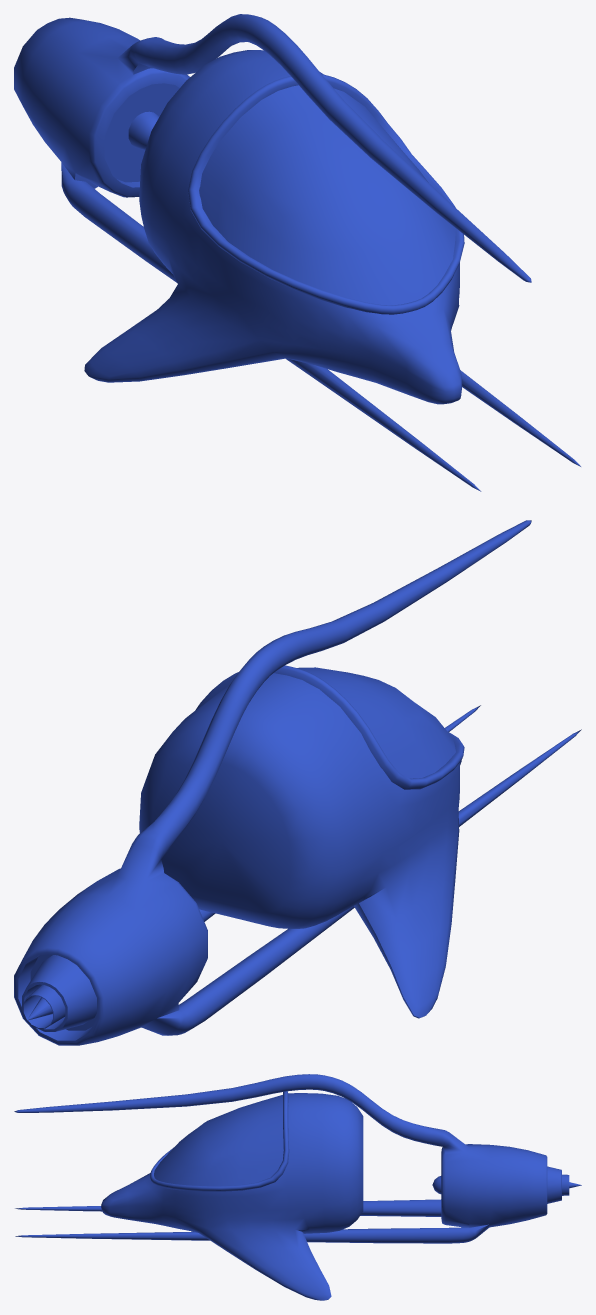
Rendered from Trident.fbx.
3 renders of one model, top to bottom at view 1: azimuth 30°, elevation 25°; view 2: azimuth 150°, elevation 25°; view 3: azimuth 270°, elevation 25°, orthographic. The views are drawn at different scales.
Visible parts, largest first — view 1: Trident_Cabin, Trident_engine, Trident_Glass, Trident_ribbon; view 2: Trident_Cabin, Trident_engine, Trident_Glass, Trident_ribbon; view 3: Trident_Cabin, Trident_engine, Trident_Glass, Trident_ribbon.
Part boxes in pixels (box(x1,y1,x2,y2)): Trident_Cabin: box(84, 50, 462, 404); Trident_engine: box(14, 14, 580, 491); Trident_Glass: box(200, 85, 455, 305); Trident_ribbon: box(188, 74, 464, 314); Trident_Cabin: box(139, 673, 461, 1018); Trident_engine: box(14, 520, 581, 1045); Trident_Glass: box(297, 667, 455, 778); Trident_ribbon: box(196, 665, 464, 789); Trident_Cabin: box(101, 1093, 363, 1300); Trident_engine: box(14, 1074, 581, 1243); Trident_Glass: box(154, 1095, 283, 1186); Trident_ribbon: box(150, 1091, 289, 1191).
Size of the model in its own units: 114 by 104 by 295.
